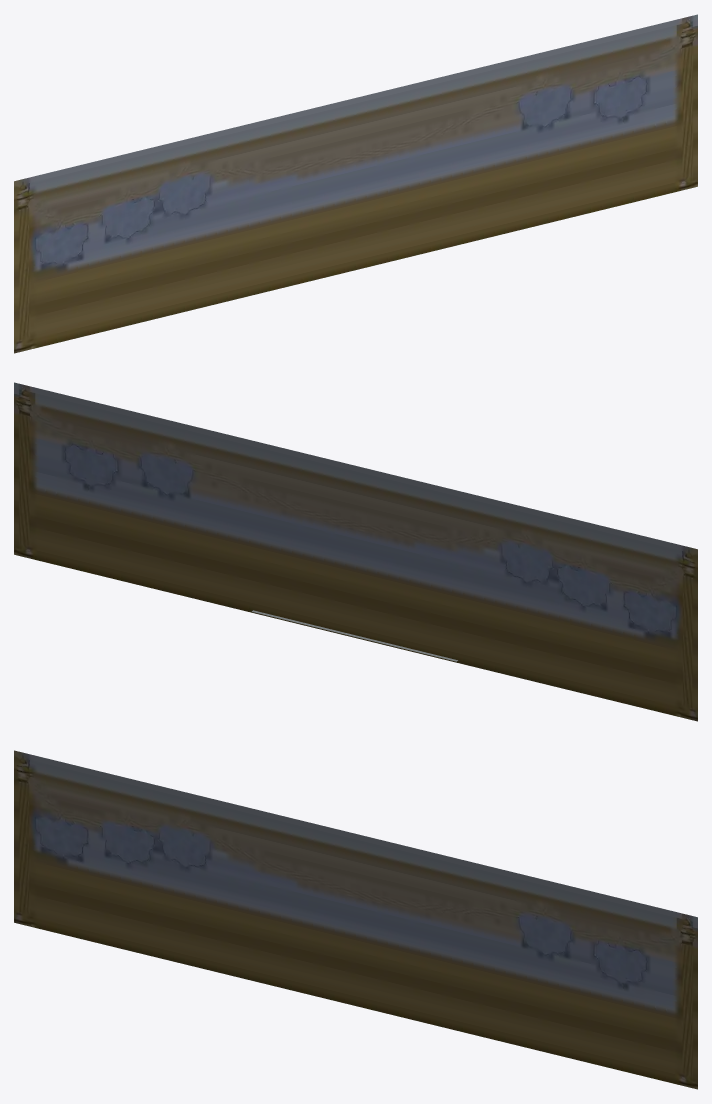
The model's file is toad-standee-rope-clouds-night.glb.
3 views of the same model, one above another, from view 1: azimuth 30°, elevation 25°; view 2: azimuth 150°, elevation 25°; view 3: azimuth 330°, elevation 25° (orthographic).
Visible parts, largest first — view 1: rope-clouds; view 2: rope-clouds; view 3: rope-clouds.
Boxes of the visible parts, x1=… form: rope-clouds: x1=14, y1=14, x2=697, y2=353; rope-clouds: x1=14, y1=382, x2=697, y2=721; rope-clouds: x1=14, y1=750, x2=697, y2=1089.
Bounding box in the file's own units: 0.1 × 0.0241 × 0.0005.
1 material, 1 textured.
